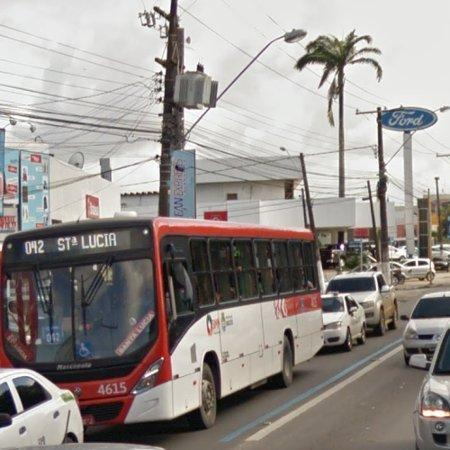buses: (0, 218, 323, 428)
